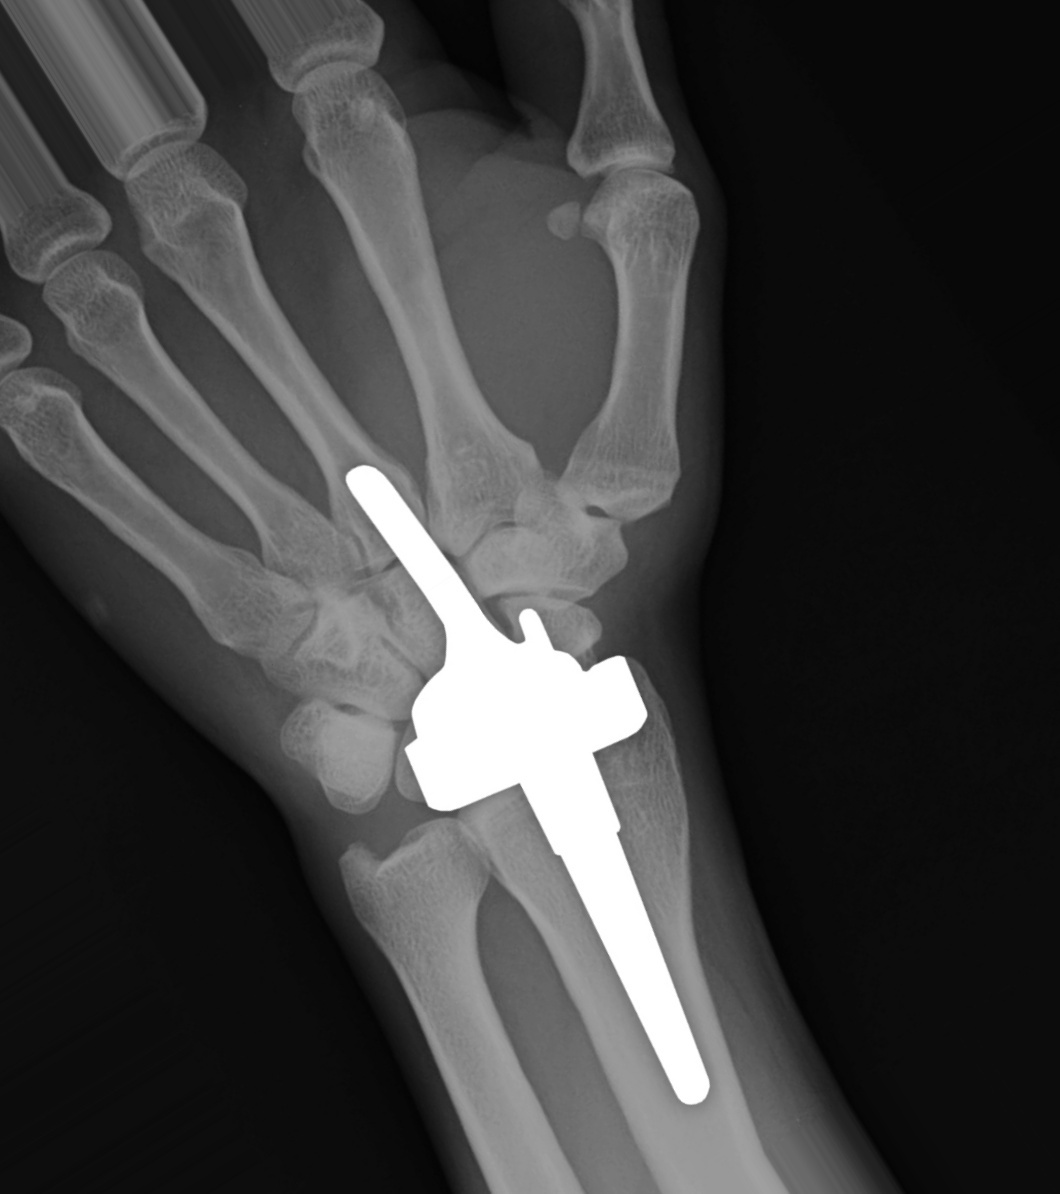Wrist-Biax-DePuuy: (294, 427, 713, 1125)
